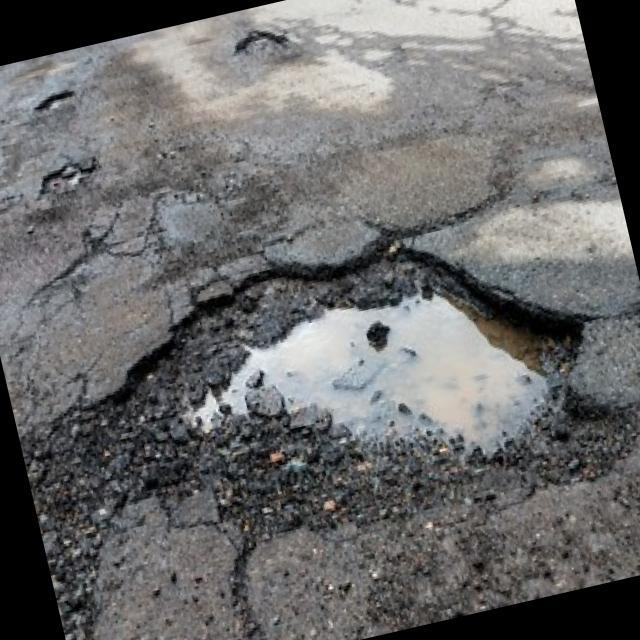Pothole: (92, 191, 640, 579), (29, 156, 102, 198), (233, 22, 288, 64), (30, 88, 76, 112)
